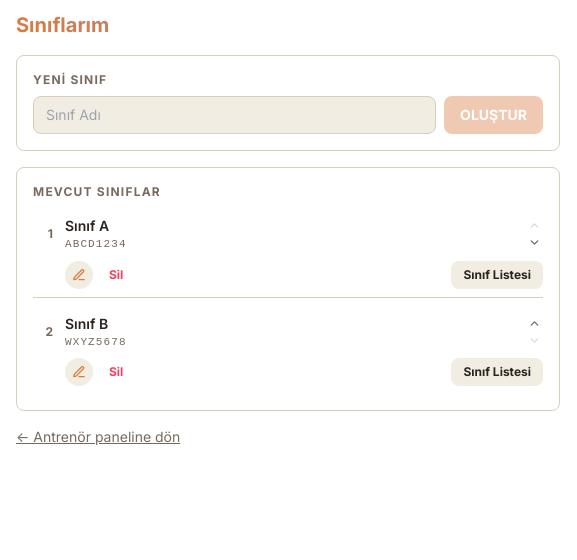
Test case: yeni sınıf oluşturunca listeye eklenir
Expected: the text "Sınıf A" is shown, [65, 217, 109, 234]
Type "Sınıf C" into the field with placeholder "Sınıf Adı" at [235, 115], box [33, 96, 436, 134]
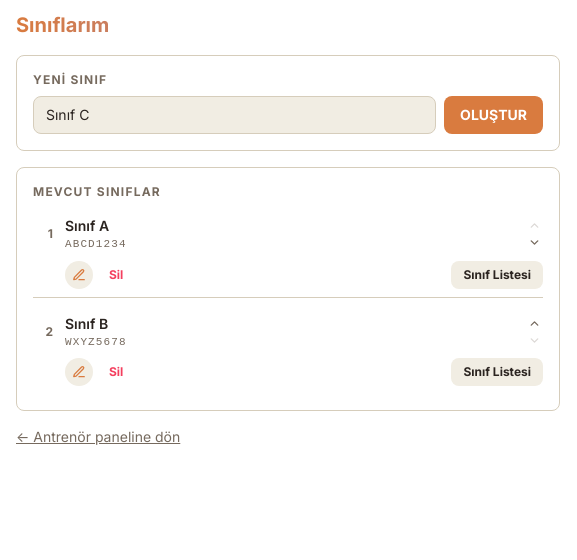
Click the button "OLUŞTUR" at [494, 115], box [444, 96, 543, 134]
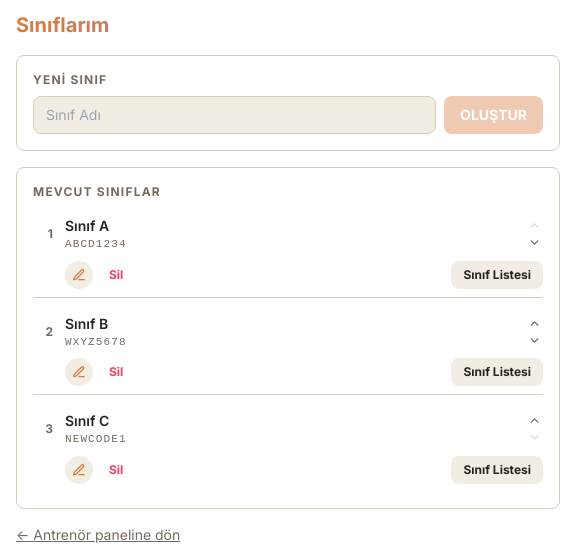
Expected: the text "NEWCODE1" is shown, [65, 433, 127, 445]
